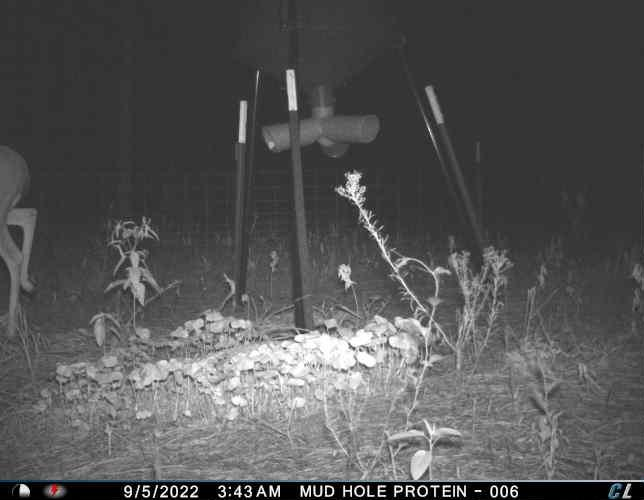Deer: (0, 137, 53, 346)
